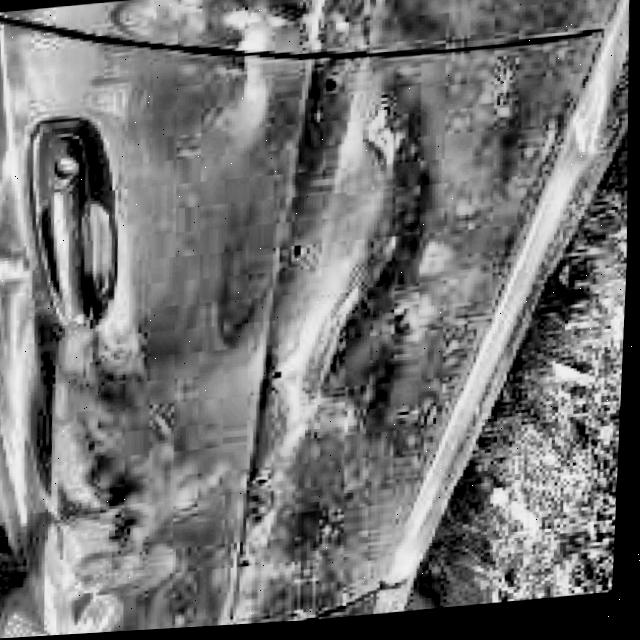door_dent: (98, 0, 427, 420)
